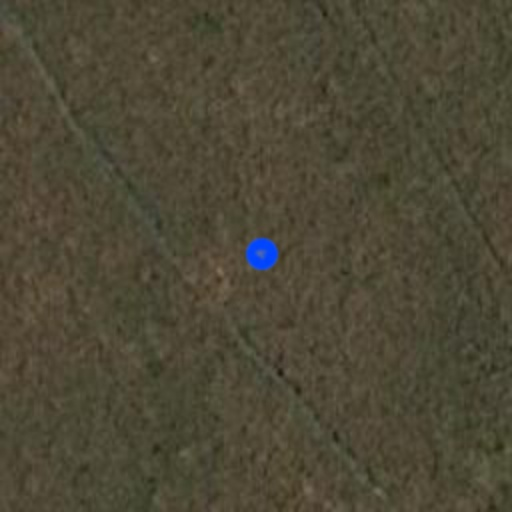circle: (240, 232, 284, 276)
